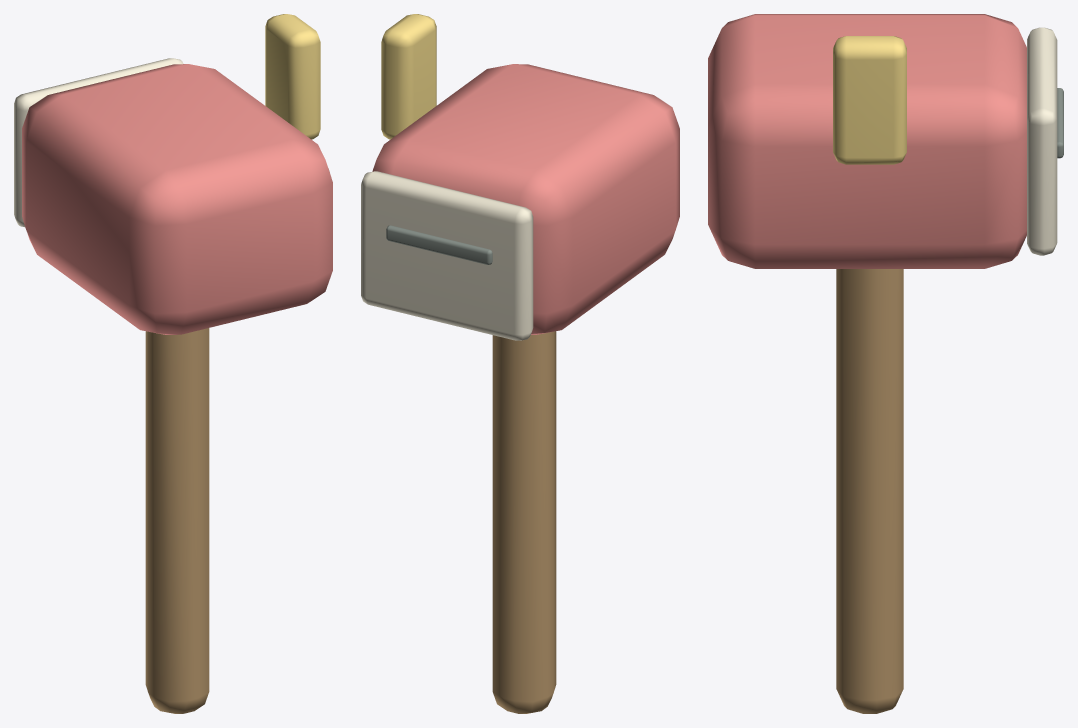
File: mailbox_red.glb
3 renders of one model, left to right at view 1: azimuth 30°, elevation 25°; view 2: azimuth 150°, elevation 25°; view 3: azimuth 270°, elevation 25°, orthographic. The views are drawn at different scales.
Size of the model in its own units: 0.44 by 1.2 by 0.5275.
